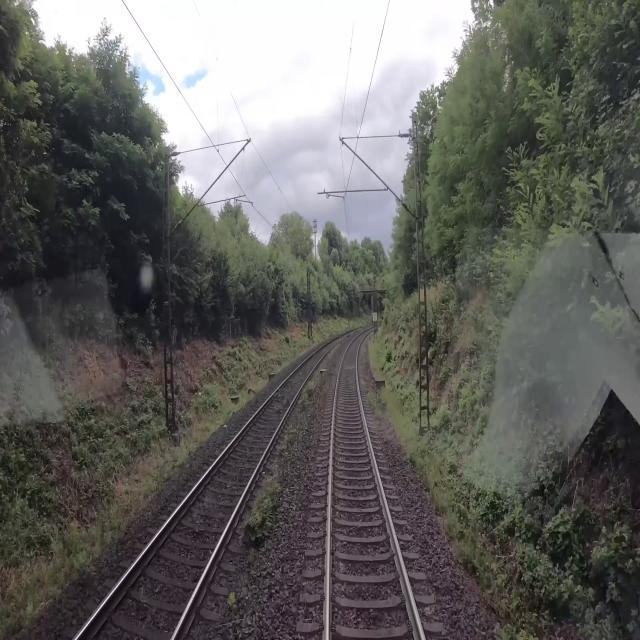Plant: (240, 422, 306, 561), (366, 388, 383, 420), (302, 379, 315, 410), (226, 593, 238, 616)
